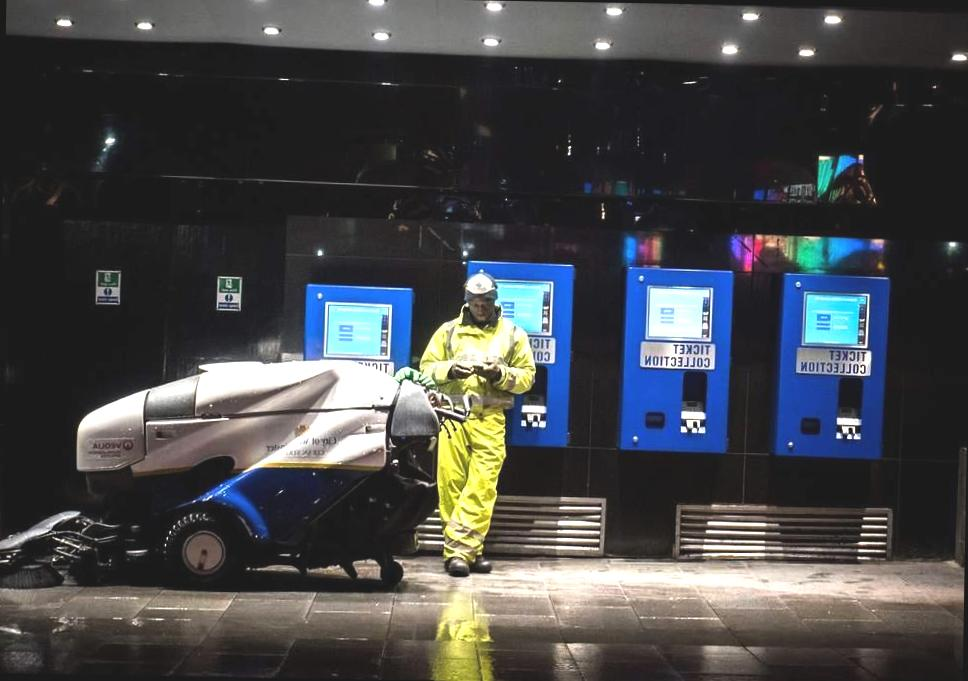helmet: (461, 272, 498, 297)
person: (409, 264, 540, 581)
